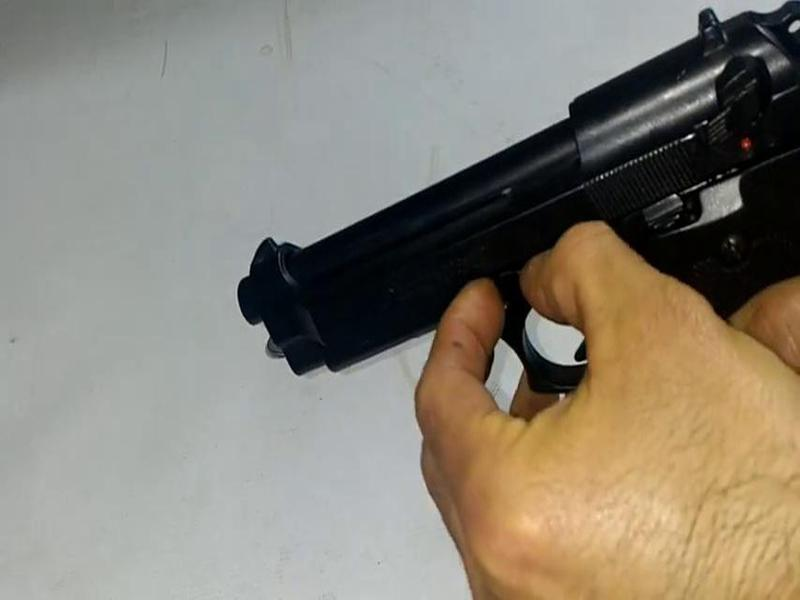Pistola: (194, 6, 800, 408)
